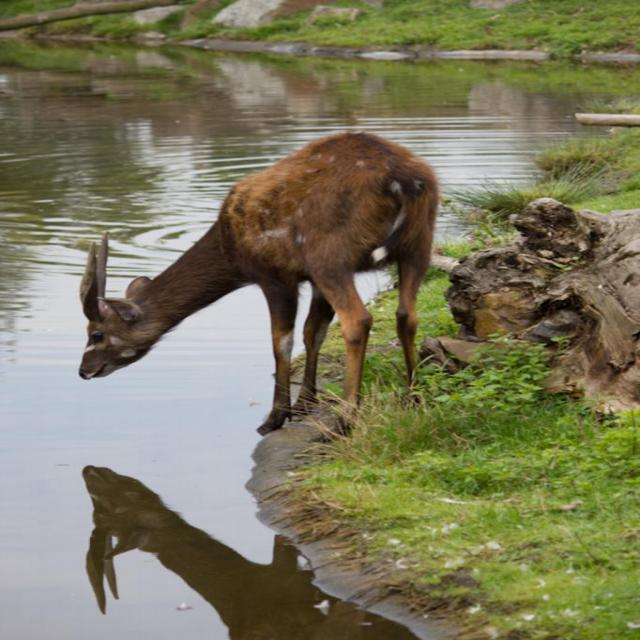Deer: (78, 130, 439, 442)
